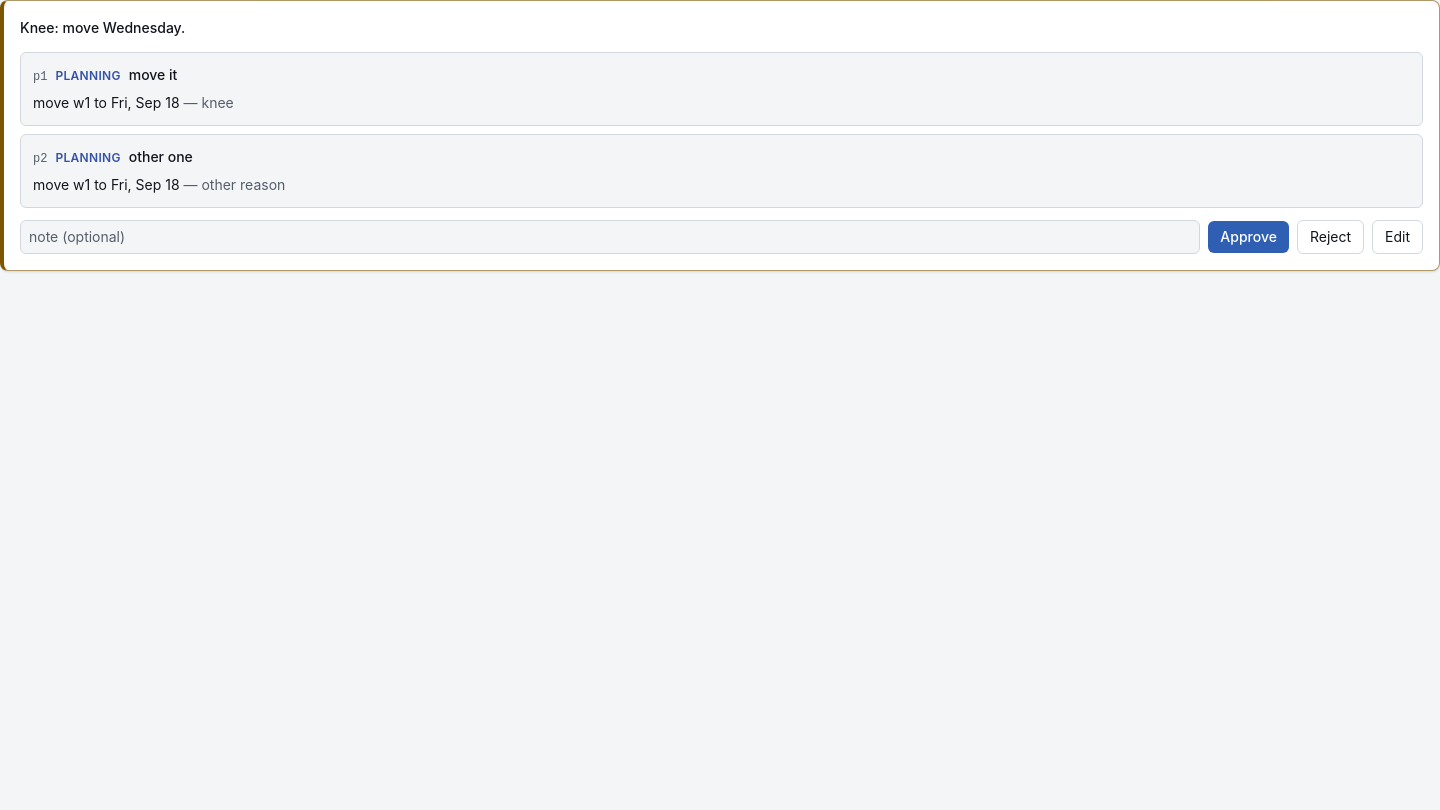
Test: two proposals in form mode have unique ids and each label binds inside its own proposal
Click the button "Edit" at (1398,237), box x1=1372 y1=220 x2=1423 y2=254
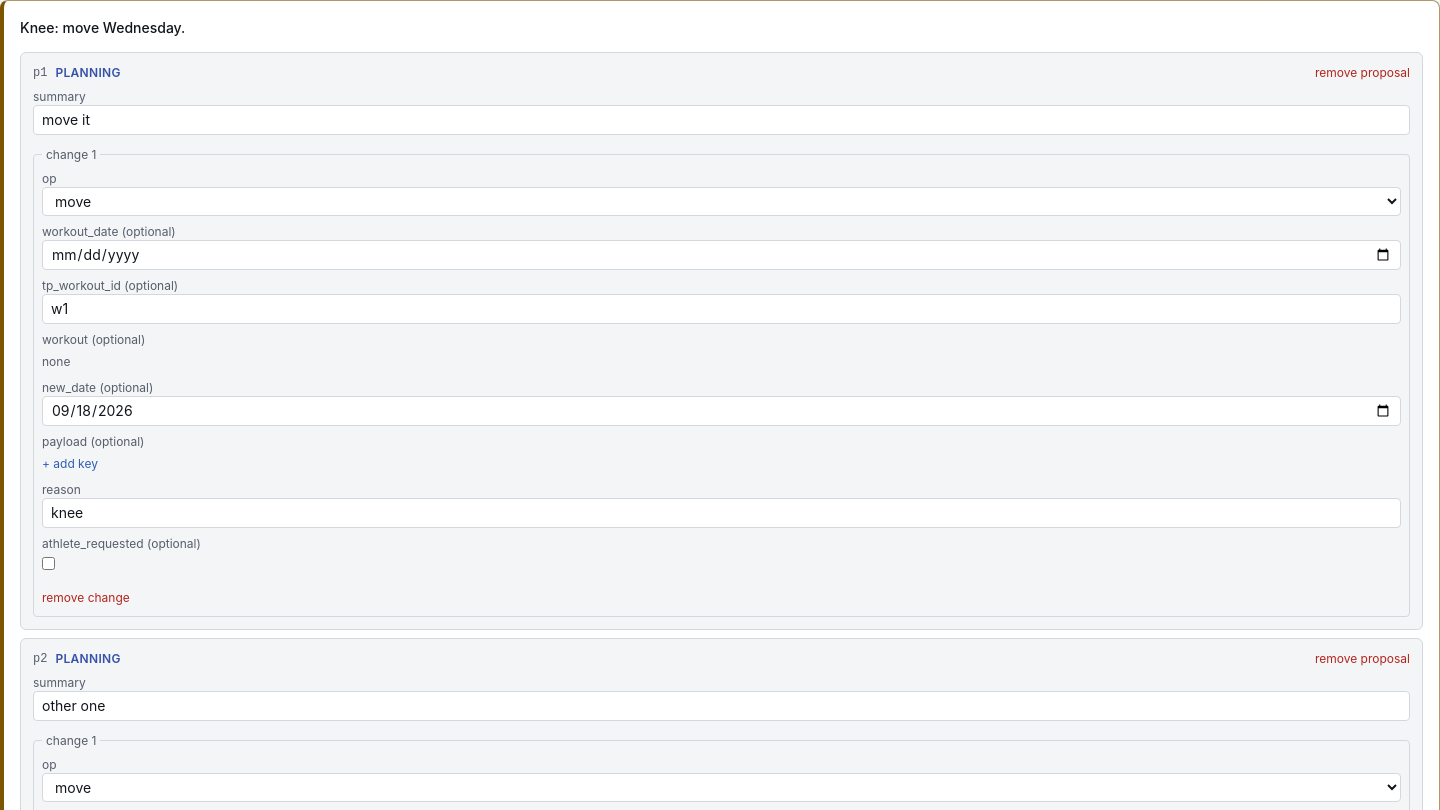
Result: the field labelled "reason" holds "knee" at x1=42 y1=498 x2=1401 y2=528
